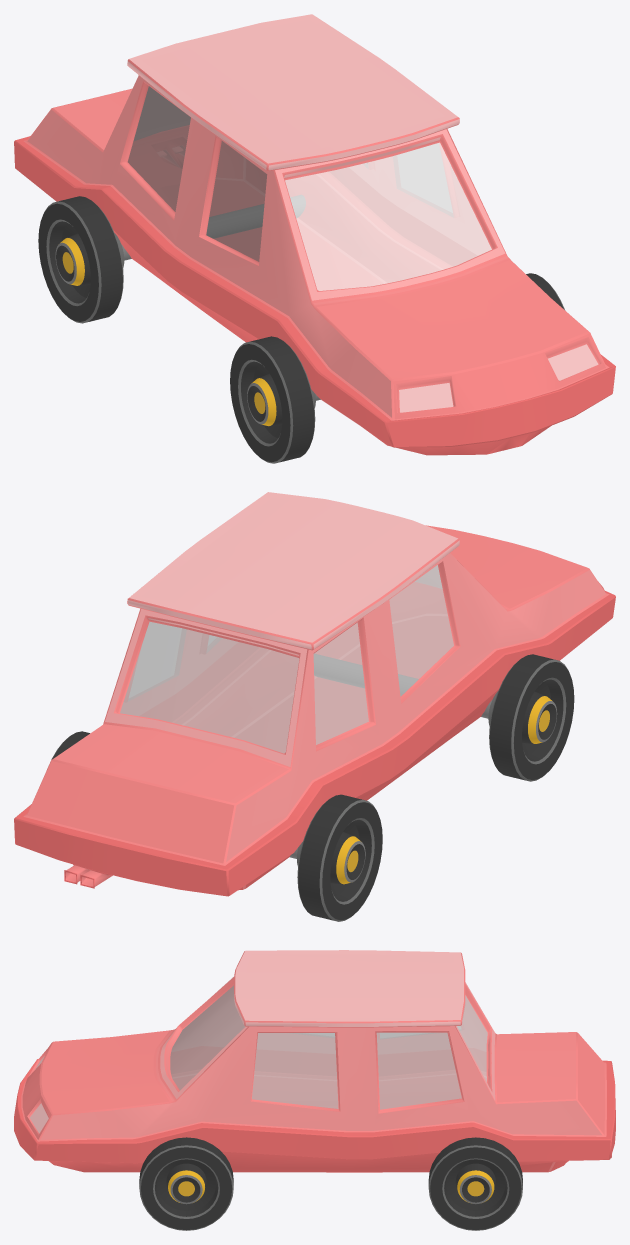
The model's file is lowpolycar-normal.glb.
3 views of the same model, one above another, from view 1: azimuth 30°, elevation 25°; view 2: azimuth 150°, elevation 25°; view 3: azimuth 270°, elevation 25° (orthographic). The views are drawn at different scales.
Parts seen in each view (by area): view 1: Auto.001, Räder.005; view 2: Auto.001, Räder.005; view 3: Auto.001, Räder.005.
Boxes of the visible parts, bbox=[...] form: Auto.001: bbox=[14, 14, 615, 455]; Räder.005: bbox=[38, 195, 565, 463]; Auto.001: bbox=[14, 492, 615, 896]; Räder.005: bbox=[51, 654, 574, 921]; Auto.001: bbox=[14, 950, 615, 1172]; Räder.005: bbox=[139, 1137, 522, 1230].
Size of the model in its own units: 3.23 by 2.73 by 7.67.
3 materials, 2 textured.
